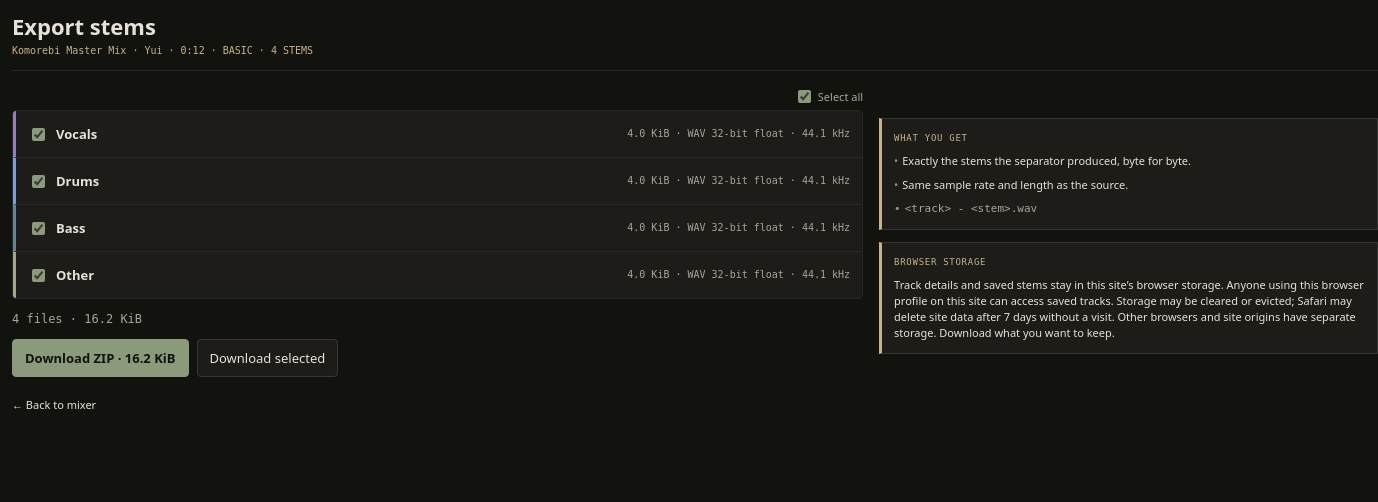
Scenario: a failed temporary ZIP staging request keeps source stems and offers a retryable storage error
Click the button with class "export-download-zip" at (100, 358), box [12,339,188,377]
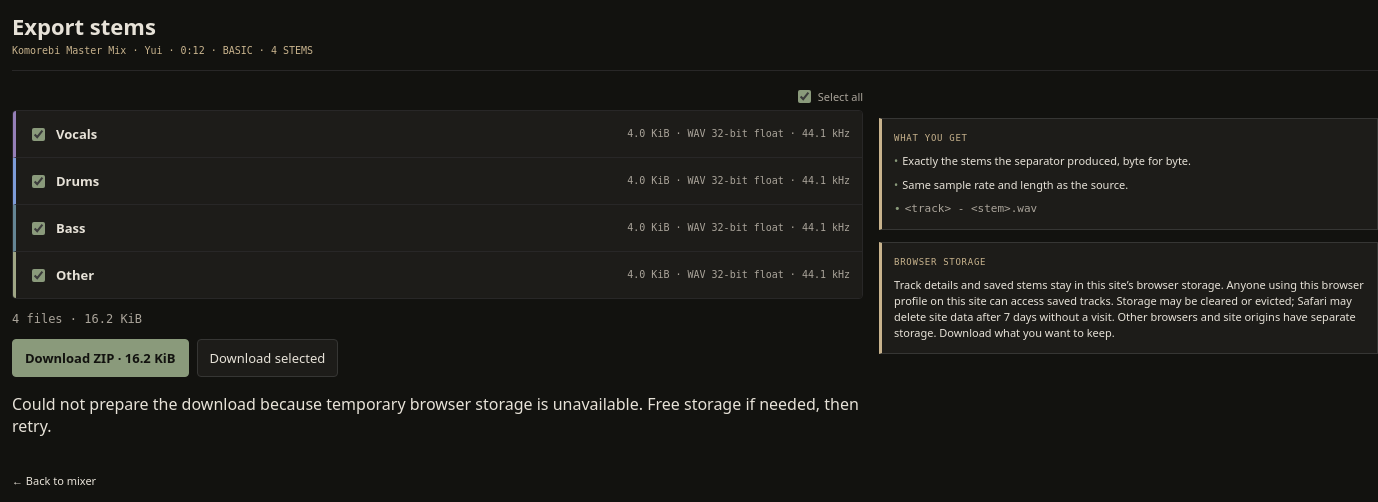
Expected: the message with class "export-zip-error" shows "Free storage if needed, then retry.", [12,393,859,437]
